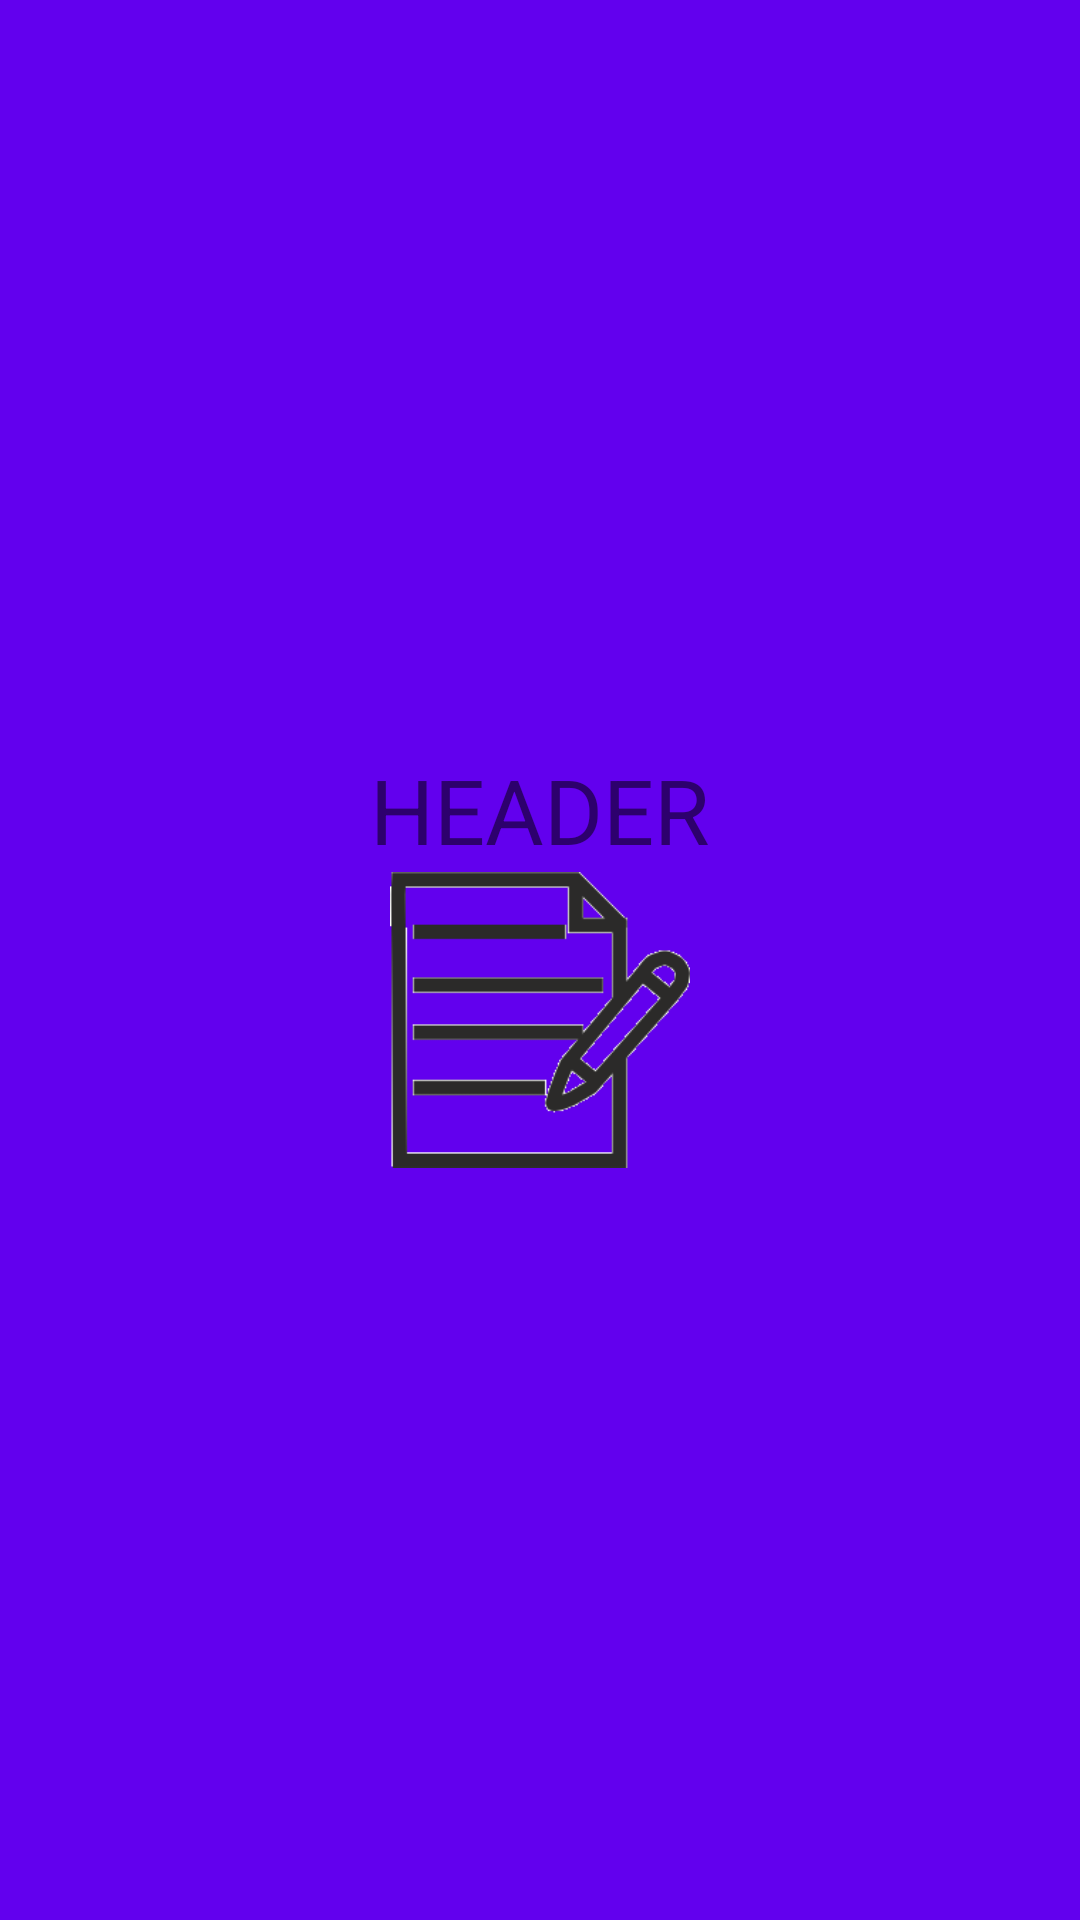

Screen size 1080 x 1920. Icon name, then its center in pixels as (x,y):
note: (540,1020)
